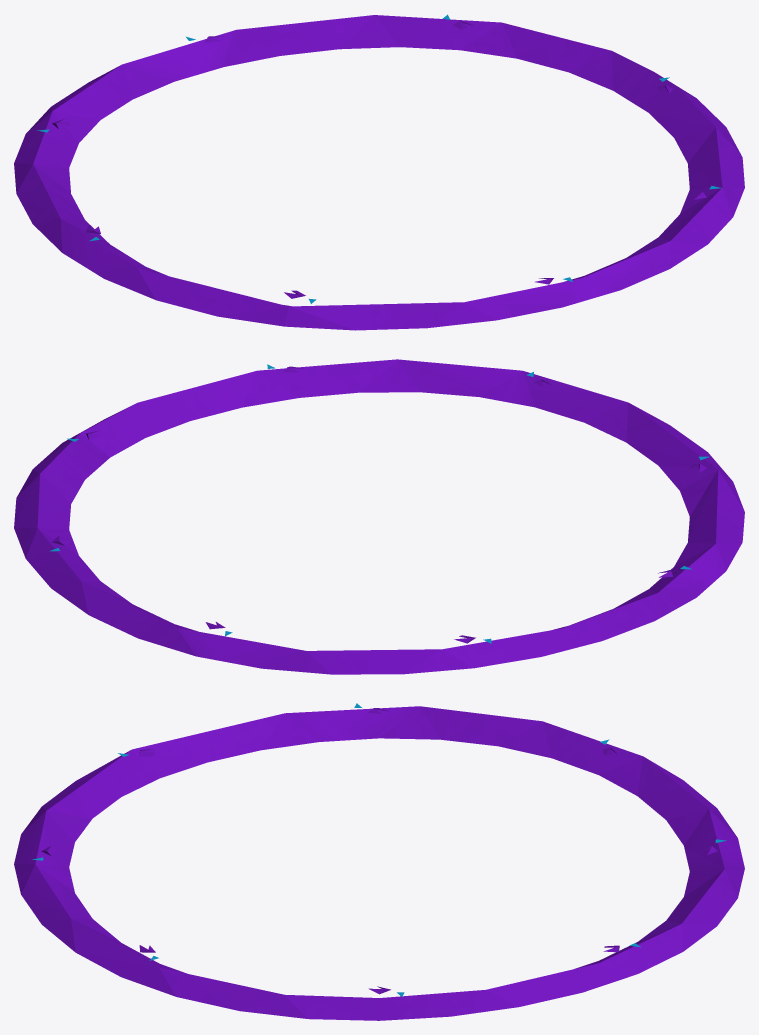
Rendered from SM_shadow_surge_ribbon_LOD2.fbx.
The picture shows the model from 3 angles, top to bottom: view 1: azimuth 30°, elevation 25°; view 2: azimuth 150°, elevation 25°; view 3: azimuth 270°, elevation 25°; orthographic projection.
Visible parts, largest first — view 1: SM_shadow_surge_ribbon_LOD2; view 2: SM_shadow_surge_ribbon_LOD2; view 3: SM_shadow_surge_ribbon_LOD2.
Part boxes in pixels (x1=…): SM_shadow_surge_ribbon_LOD2: x1=14, y1=14, x2=744, y2=330; SM_shadow_surge_ribbon_LOD2: x1=14, y1=359, x2=744, y2=674; SM_shadow_surge_ribbon_LOD2: x1=14, y1=703, x2=744, y2=1020.
Bounding box in the file's own units: 2.12 × 2.12 × 0.0742.
